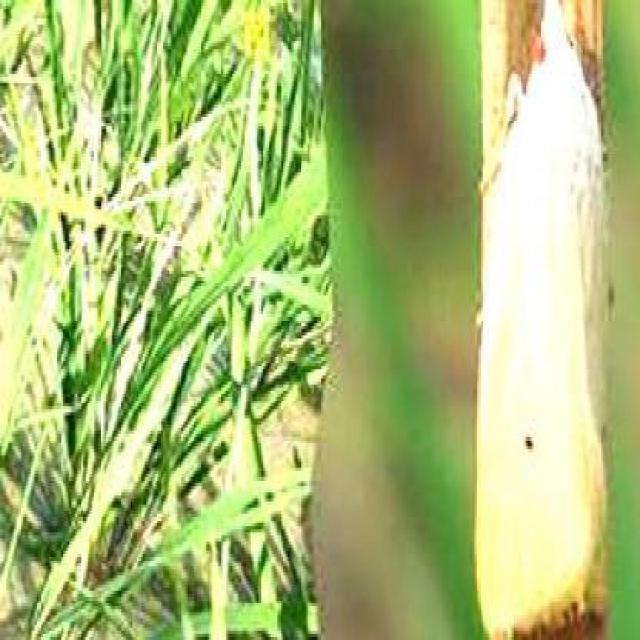stem-borer: (471, 0, 615, 640)
